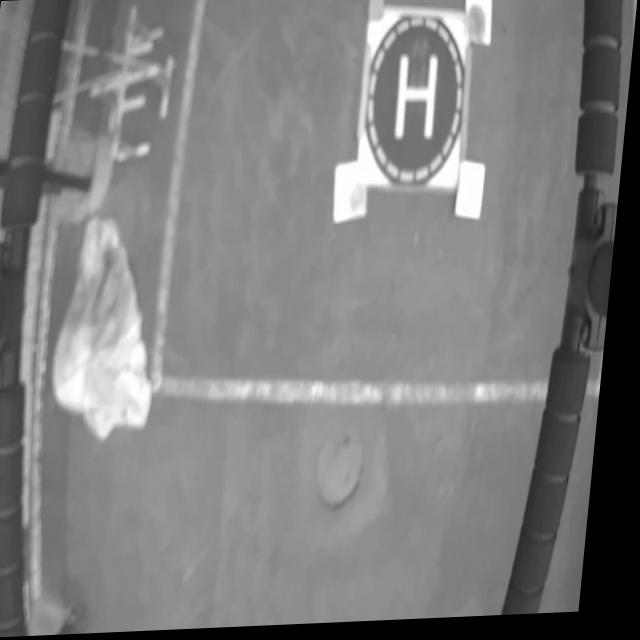Helipad: (396, 57, 440, 144)
